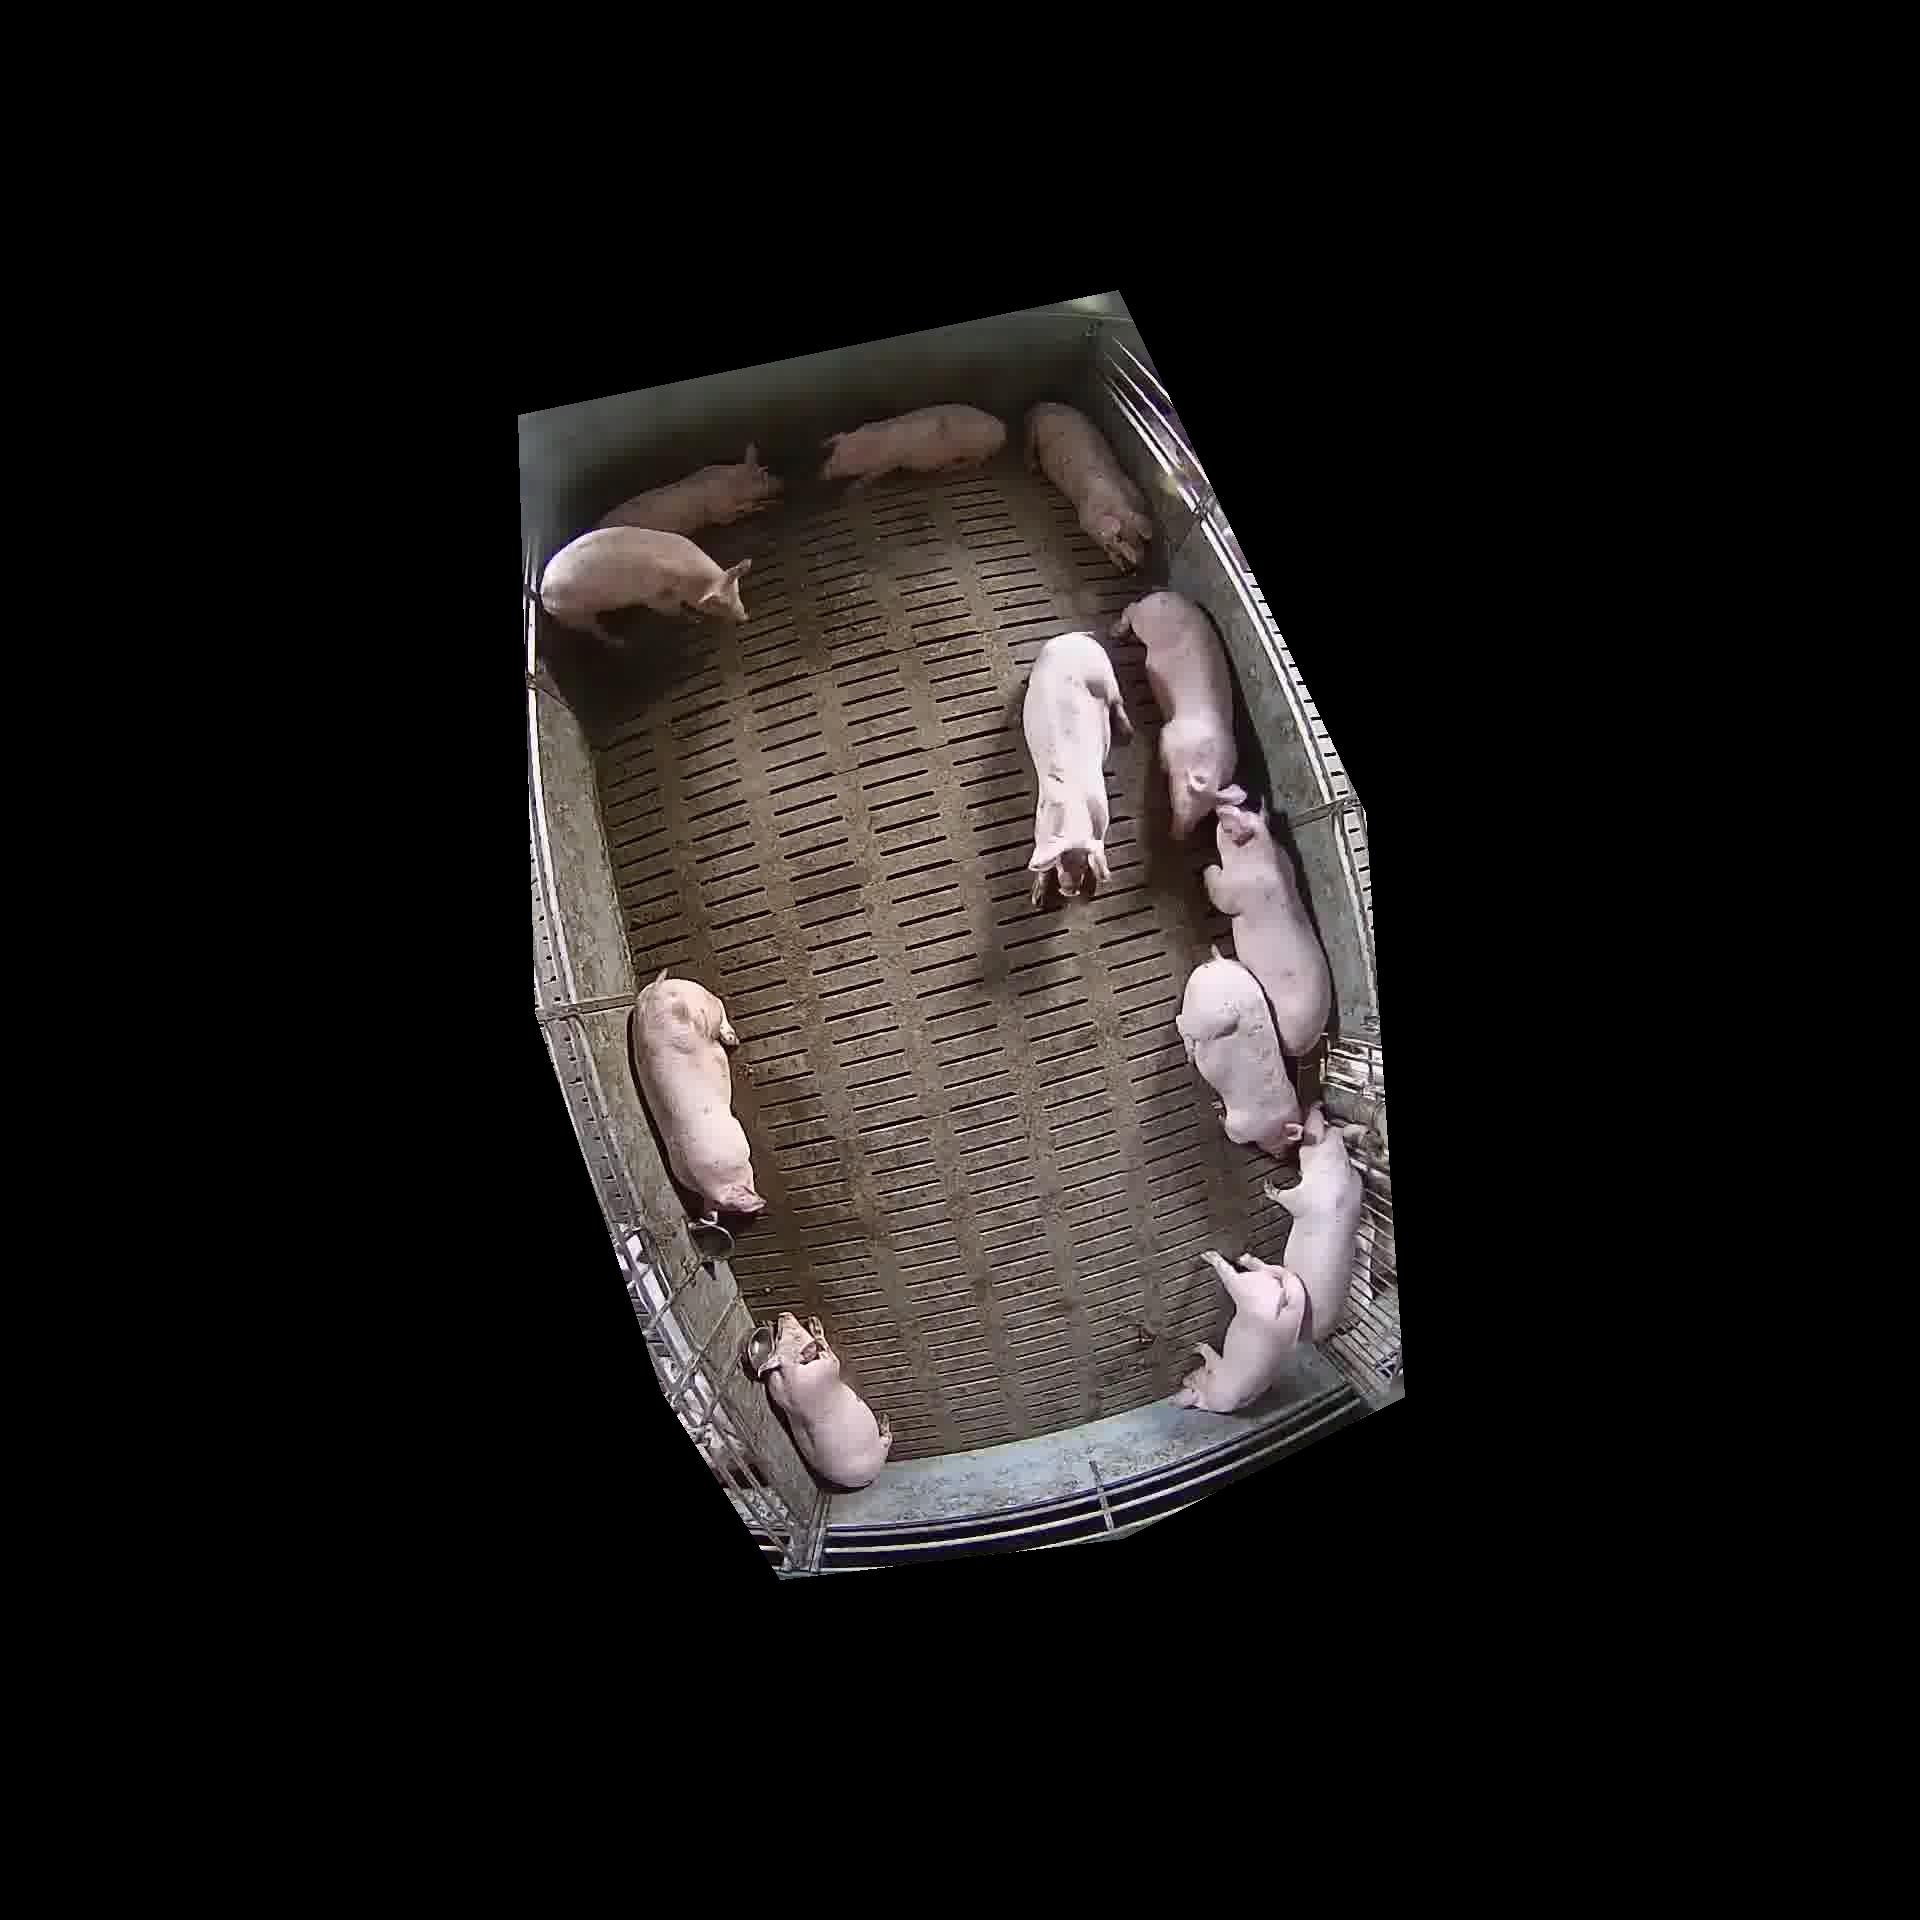pig: (633, 971, 765, 1213), (1204, 805, 1329, 1053), (1023, 631, 1131, 905), (1122, 591, 1236, 839), (1176, 953, 1299, 1155), (540, 526, 749, 644), (758, 1313, 891, 1487), (1171, 1252, 1306, 1412), (1271, 1108, 1363, 1342), (1027, 403, 1152, 571), (598, 445, 782, 535), (819, 404, 1006, 482)
